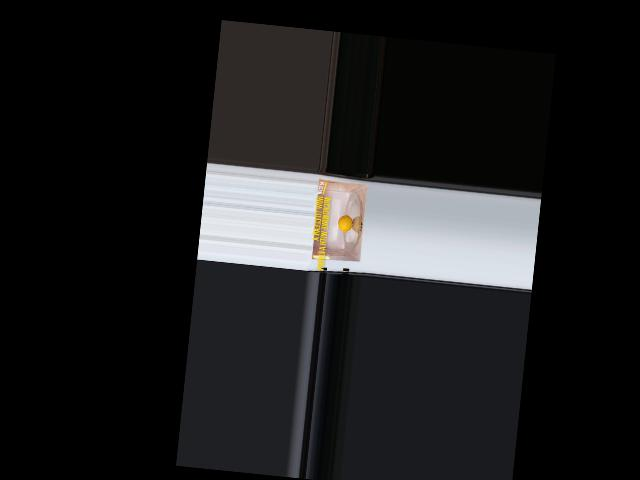lemon: (334, 213, 356, 241)
